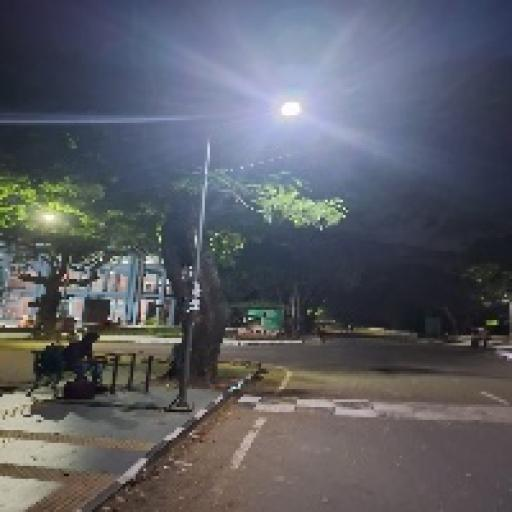Working: (269, 94, 308, 126), (39, 212, 63, 225)
